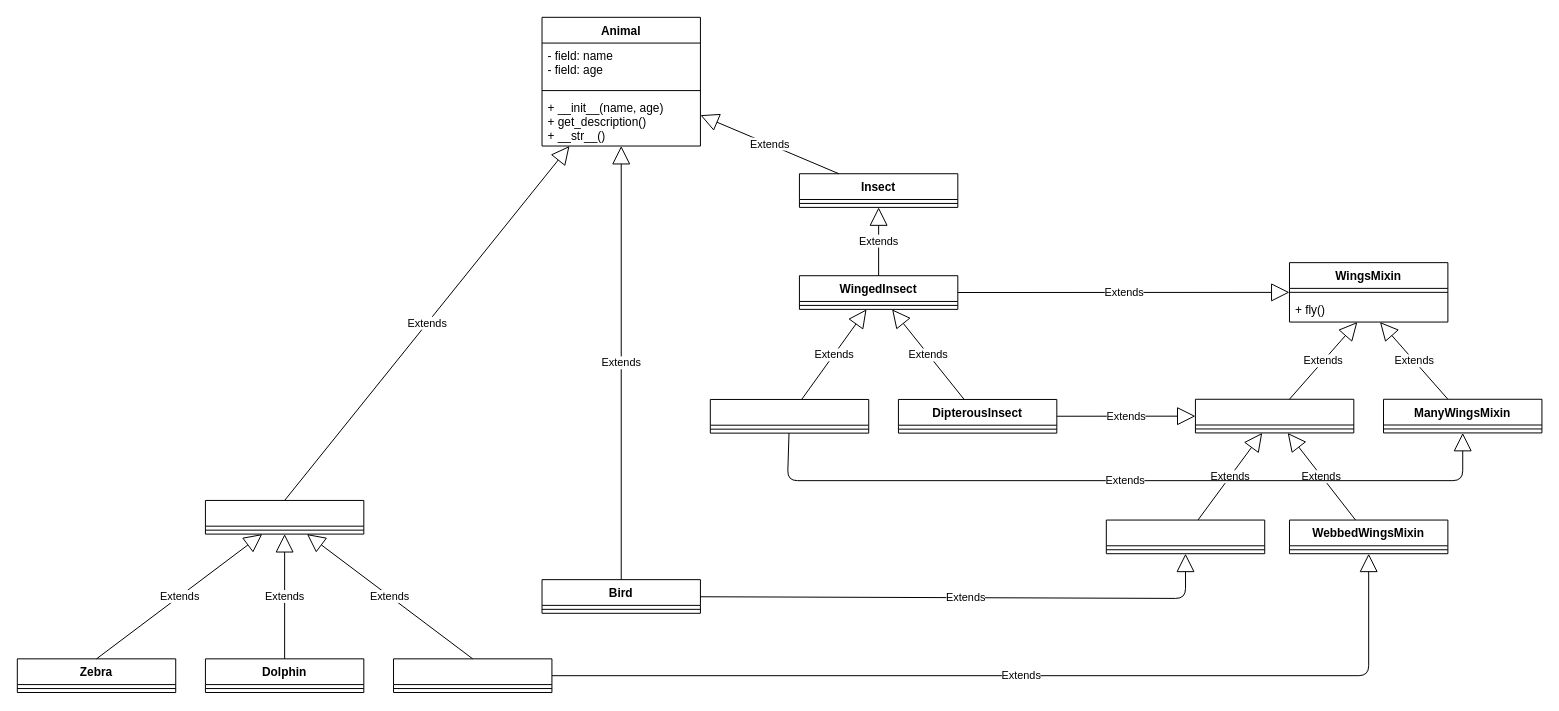
Some shapes in this 1559 by 711 pixel diagram are drawn without their labels. The centre of each missing label's shape, as x and y in pixels:
Bat: [472,675]
FeatheredWingsMixin: [1185,536]
Mammal: [284,516]
MultiwingedInsect: [789,415]
TwoWingsMixin: [1274,415]
